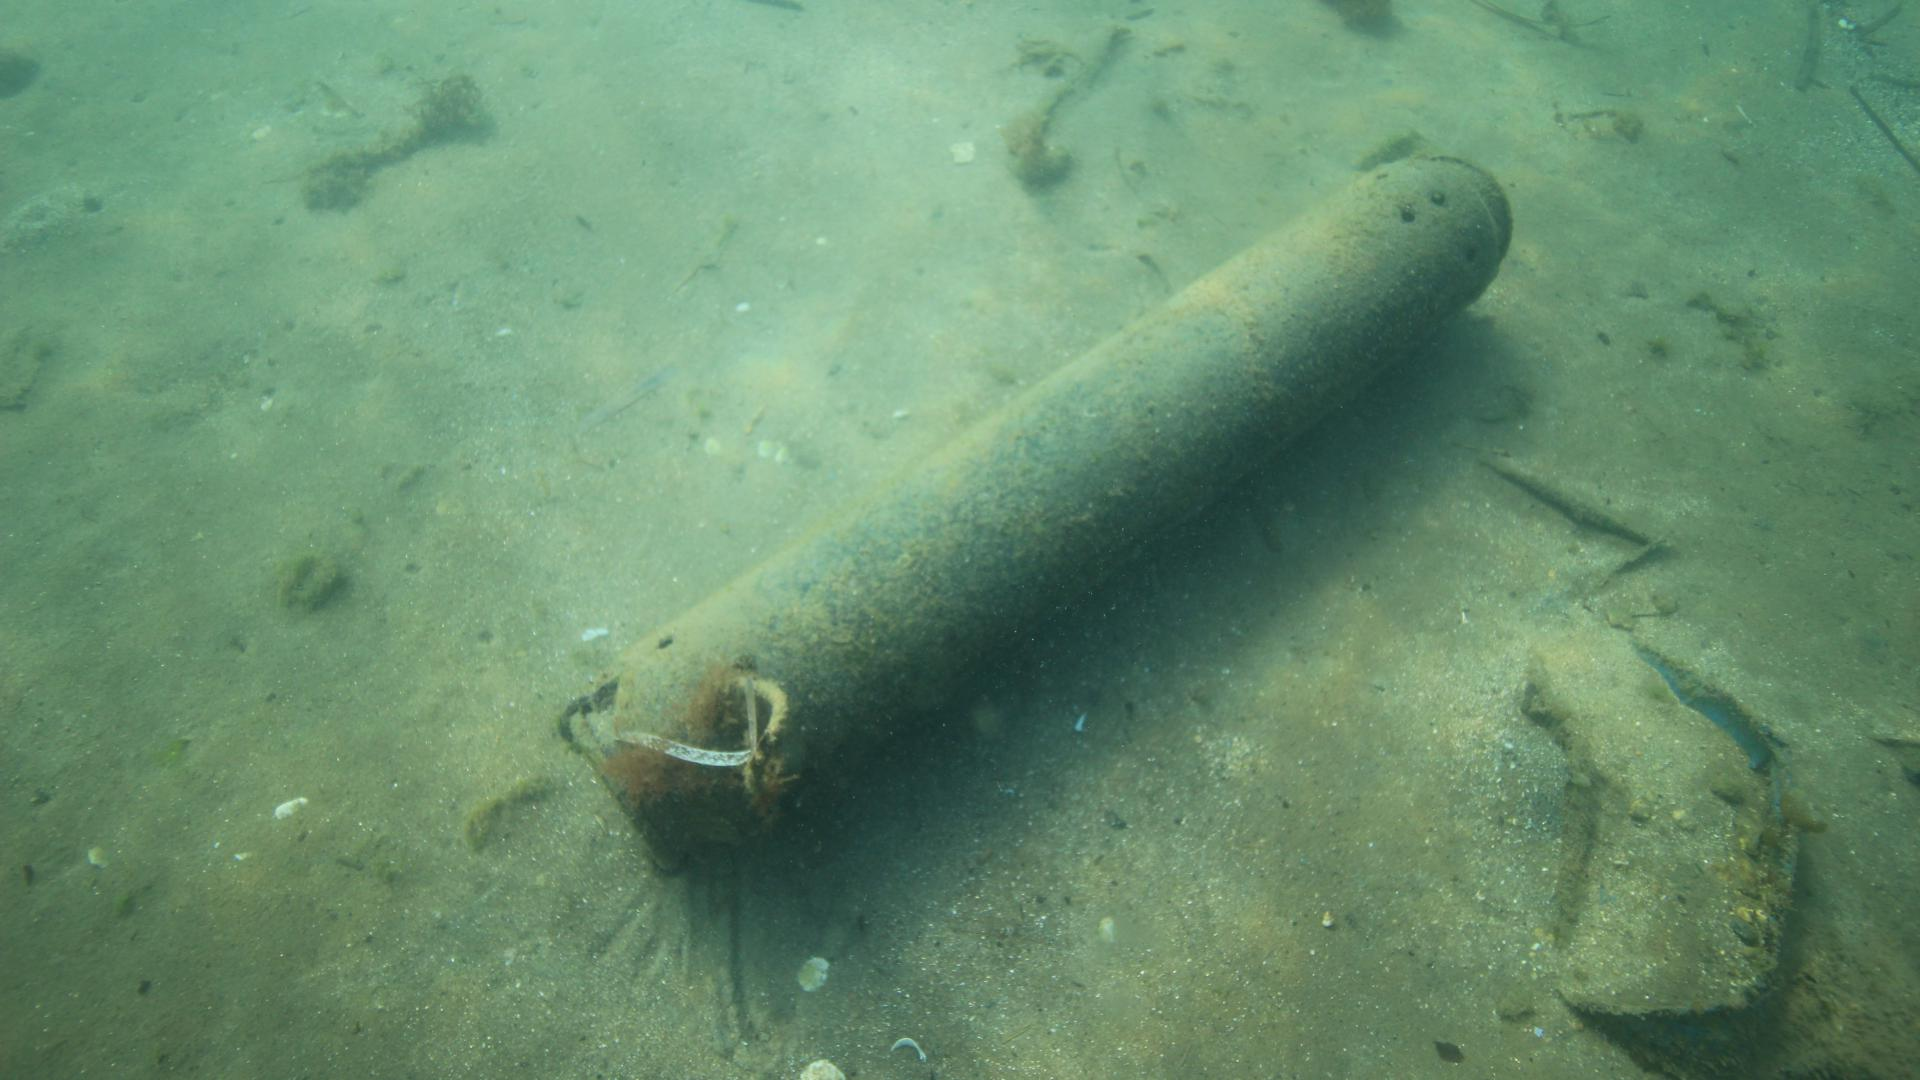eel fish trap: (566, 152, 1514, 876)
